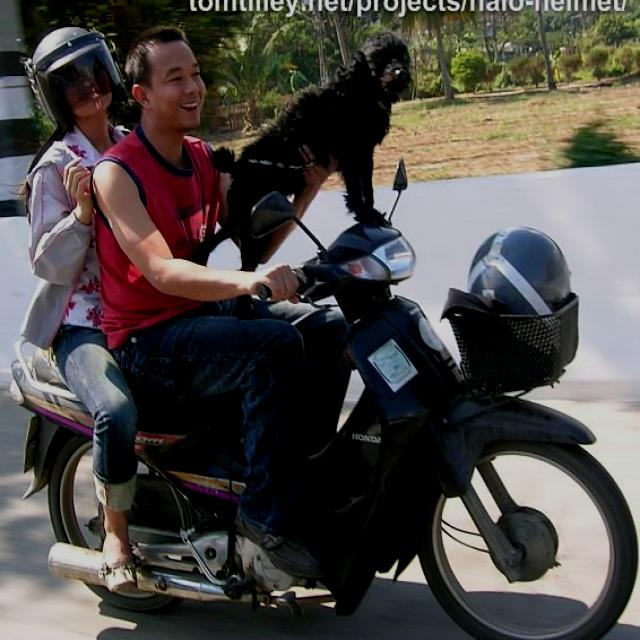Without Helmet: (127, 24, 220, 132)
